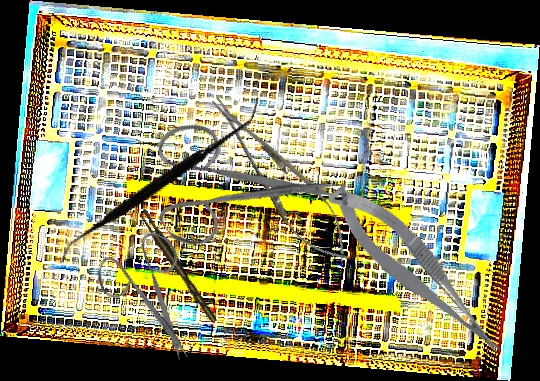Iris Scissors: (120, 68, 346, 292), (78, 217, 230, 364)
Micro Scissor: (321, 167, 510, 377)
Needle Holder: (196, 83, 365, 275)
Spatula Surgical: (58, 51, 261, 311)
Tissue Forceps: (137, 206, 218, 327)
